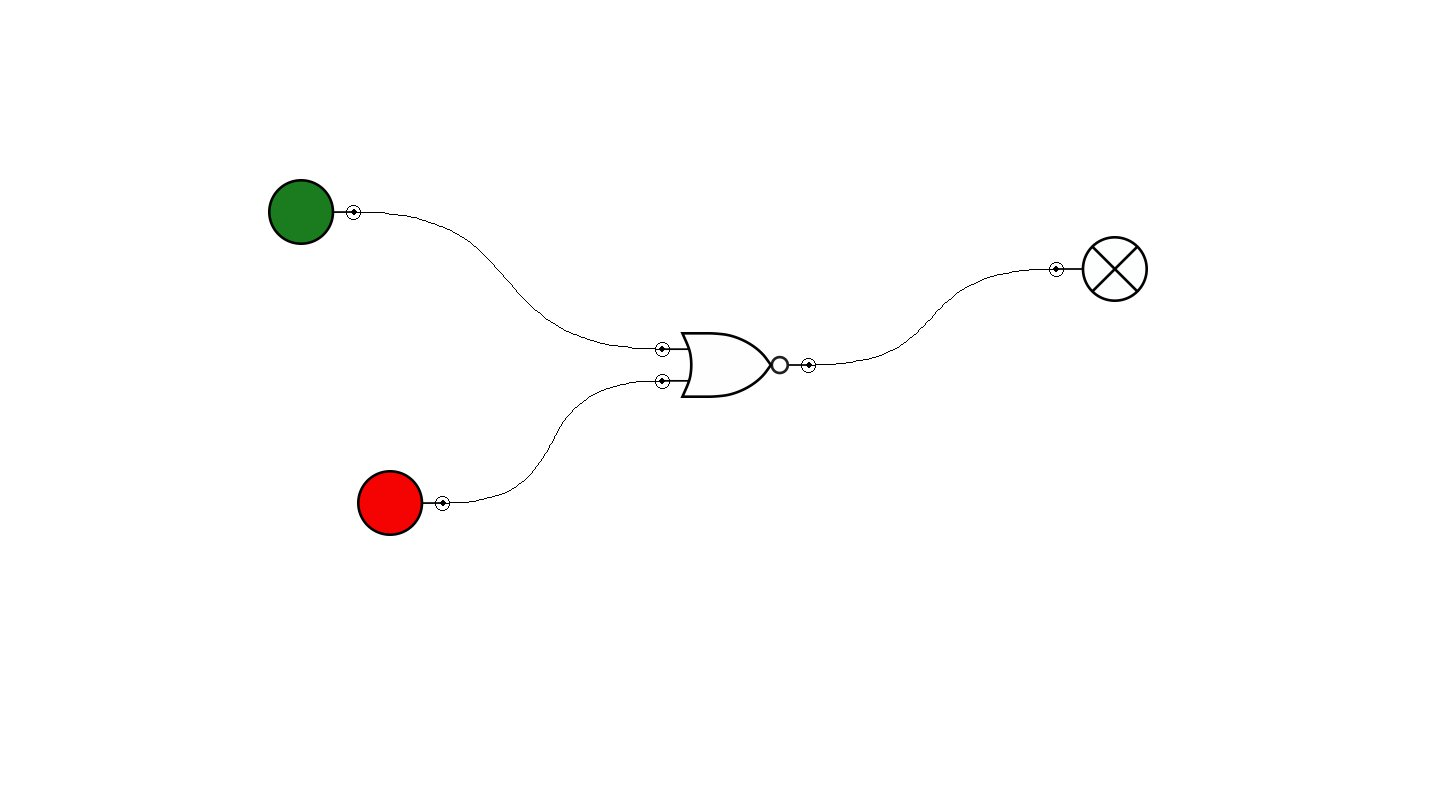bulb: (1049, 236, 1148, 302)
nor: (655, 332, 816, 398)
switch_False: (357, 470, 450, 536)
switch_True: (268, 179, 361, 245)
